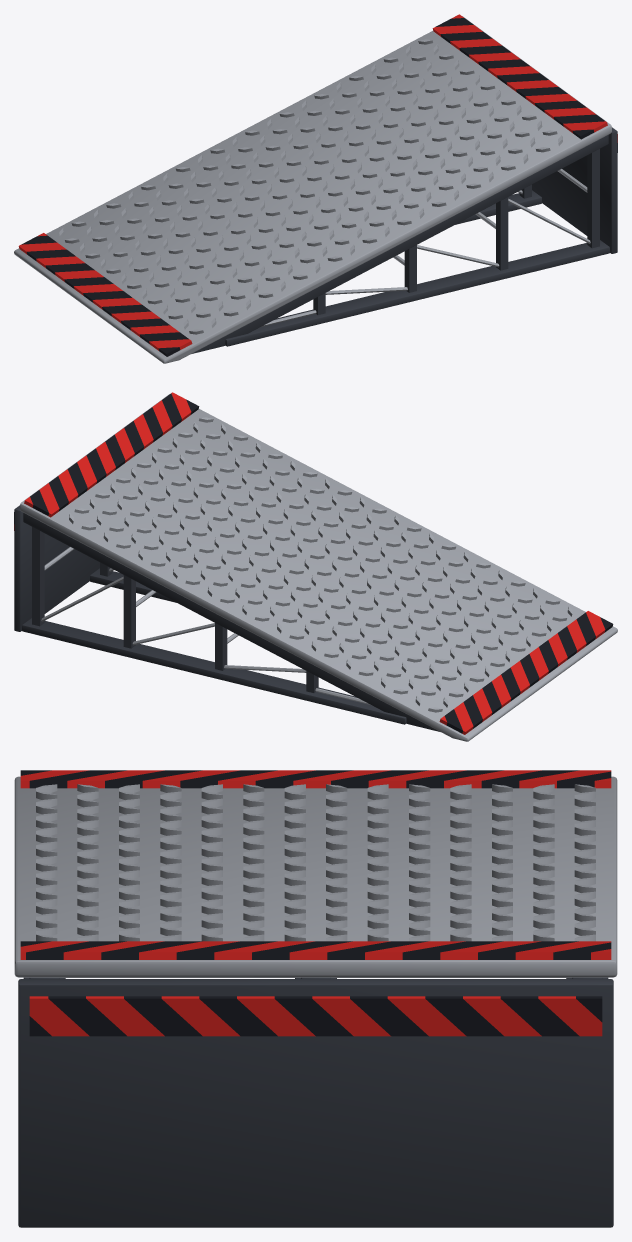
Rendered from A_Ramp.fbx.
3 renders of one model, top to bottom at view 1: azimuth 30°, elevation 25°; view 2: azimuth 150°, elevation 25°; view 3: azimuth 270°, elevation 25°, orthographic. The views are drawn at different scales.
Visible parts, largest first — view 1: Metal.005, Frame.003, Dark.005, Accent.005; view 2: Metal.005, Frame.003, Dark.005, Accent.005; view 3: Frame.003, Metal.005, Accent.005, Dark.005.
Boxes of the visible parts, x1=… form: Metal.005: x1=14, y1=16, x2=611, y2=363; Frame.003: x1=192, y1=127, x2=617, y2=353; Dark.005: x1=21, y1=18, x2=617, y2=356; Accent.005: x1=18, y1=14, x2=617, y2=350; Metal.005: x1=20, y1=394, x2=617, y2=741; Frame.003: x1=14, y1=505, x2=439, y2=731; Dark.005: x1=14, y1=393, x2=613, y2=733; Accent.005: x1=14, y1=392, x2=605, y2=734; Frame.003: x1=18, y1=977, x2=613, y2=1227; Metal.005: x1=14, y1=776, x2=617, y2=977; Accent.005: x1=20, y1=770, x2=611, y2=1036; Dark.005: x1=20, y1=770, x2=611, y2=1036.
Bounding box in the file's own units: 14.03 × 3.89 × 8.
